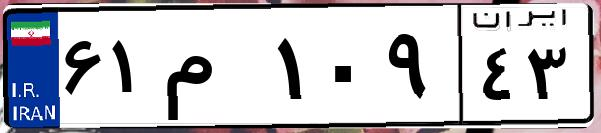0: (330, 28, 385, 110)
1: (270, 28, 330, 110), (110, 28, 158, 98)
3: (525, 38, 570, 115)
4: (475, 38, 525, 113)
6: (57, 26, 110, 100)
9: (385, 28, 445, 110)
م: (158, 20, 270, 120)
